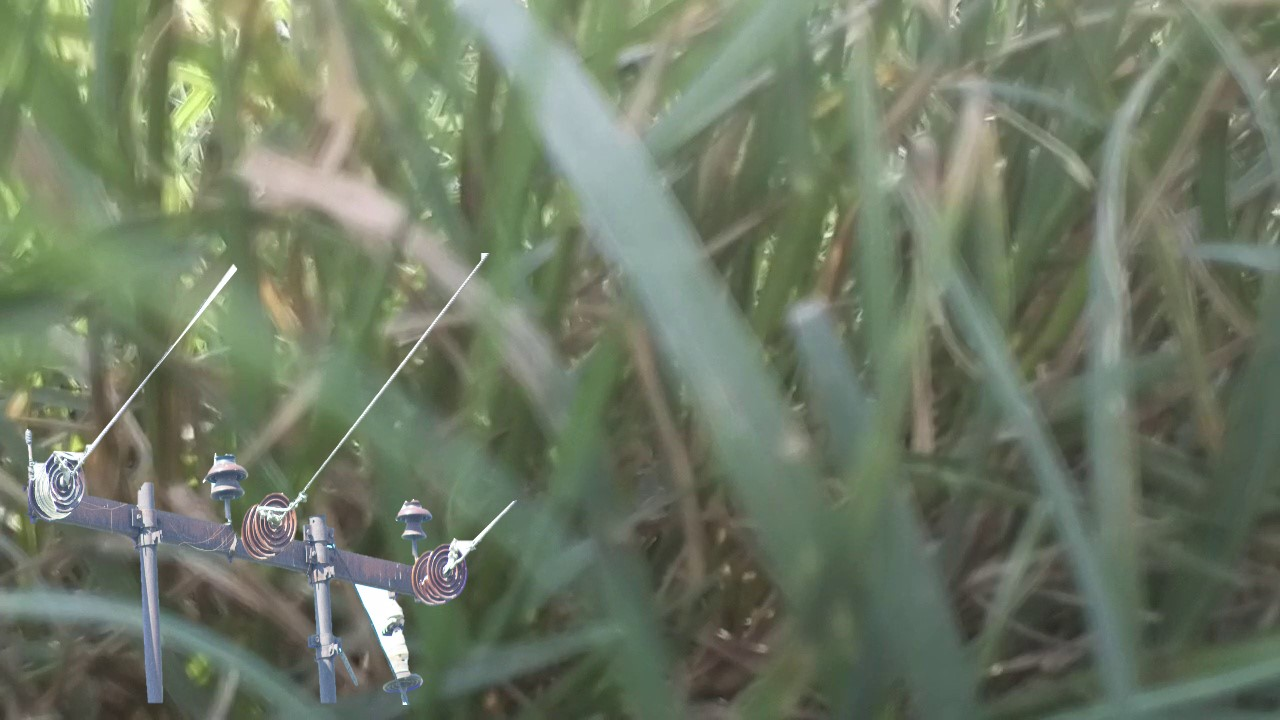defect_disc: (42, 441, 91, 514)
insulator_disc: (420, 535, 471, 598), (252, 489, 298, 556)
